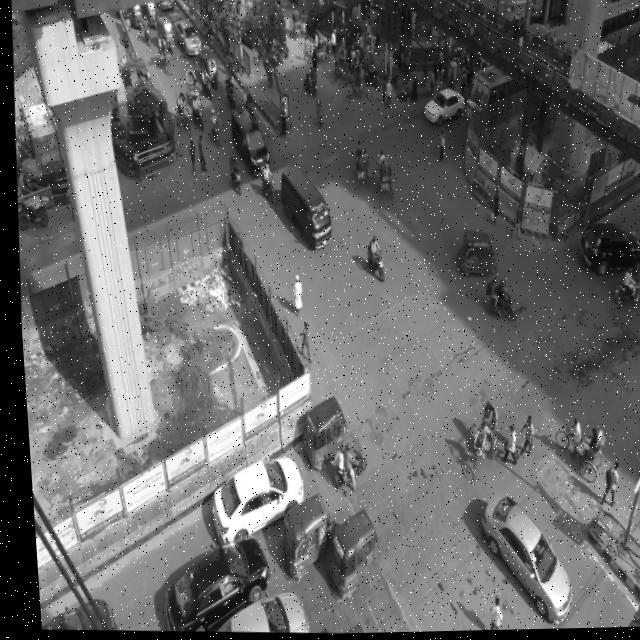cng: (313, 509, 378, 600), (272, 492, 322, 589), (292, 387, 345, 473), (453, 227, 495, 282), (153, 13, 176, 56), (197, 47, 222, 86), (139, 0, 157, 30), (127, 2, 141, 30)
rikshaw: (543, 398, 604, 488), (457, 399, 500, 482), (371, 145, 392, 202), (348, 138, 370, 190), (169, 90, 191, 134), (328, 46, 349, 89), (336, 55, 361, 90), (343, 67, 365, 103), (182, 69, 199, 109), (286, 9, 304, 42), (309, 33, 329, 62), (154, 36, 170, 68)
